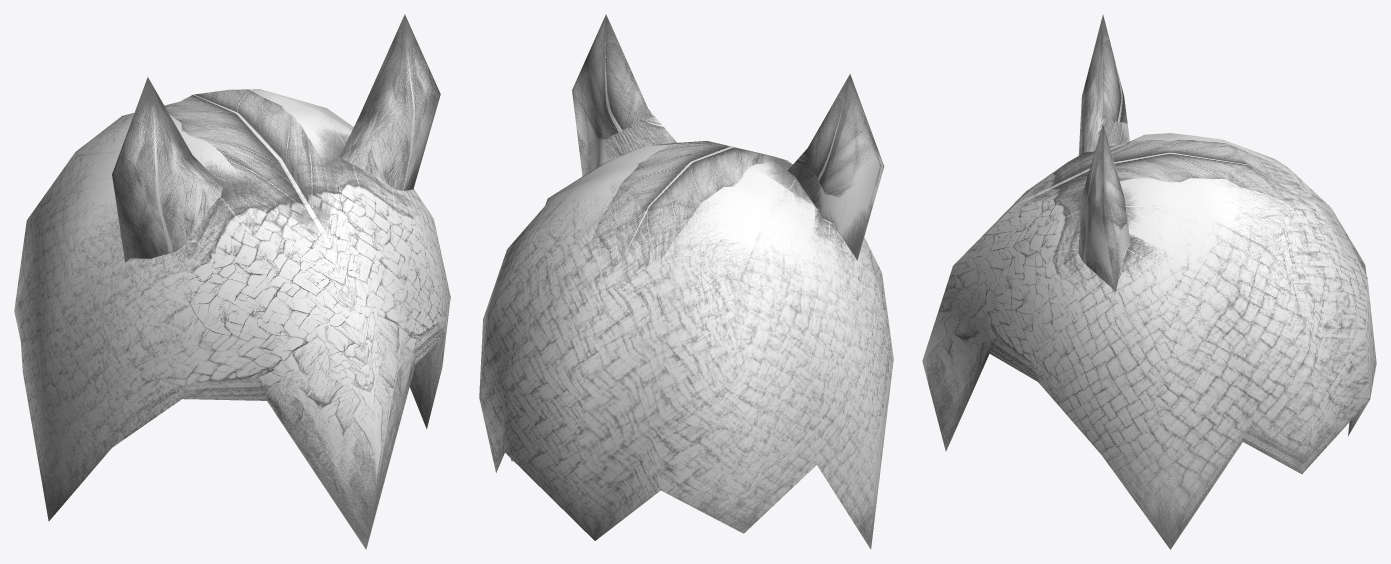
Rendered from tribalHeaddress.glb.
The picture shows the model from 3 angles, left to right: view 1: azimuth 30°, elevation 25°; view 2: azimuth 150°, elevation 25°; view 3: azimuth 270°, elevation 25°; orthographic projection. The views are drawn at different scales.
Visible parts, largest first — view 1: TribalHeaddress; view 2: TribalHeaddress; view 3: TribalHeaddress.
Boxes of the visible parts, x1,y1,x2,y2 form: TribalHeaddress: (14,14,450,549); TribalHeaddress: (479,14,893,549); TribalHeaddress: (922,14,1376,549).
Bounding box in the file's own units: 10.01 × 11.34 × 11.66.
1 material, 1 textured.
